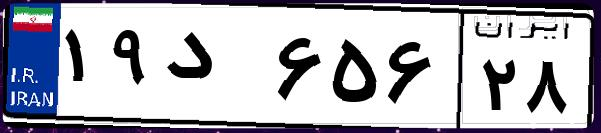1: (57, 26, 110, 100)
2: (475, 38, 525, 113)
5: (330, 28, 385, 110)
6: (270, 28, 330, 110), (385, 28, 445, 110)
8: (525, 38, 570, 115)
9: (110, 28, 158, 98)
د: (158, 20, 270, 120)
